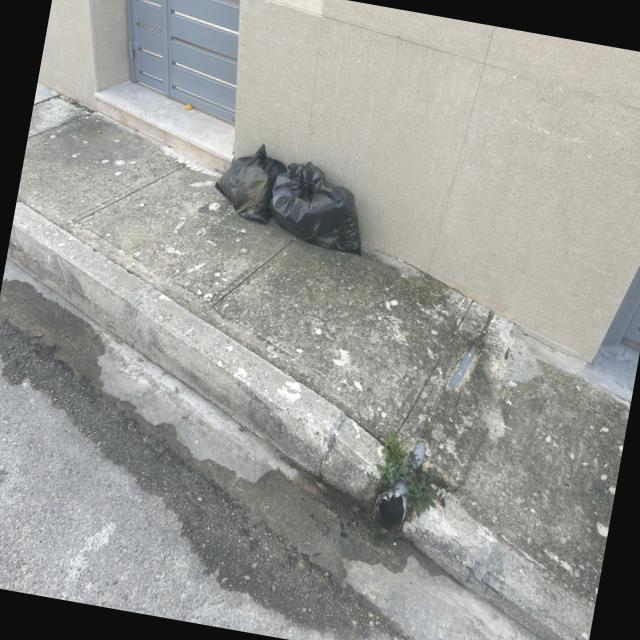black_bag: (264, 153, 379, 261), (207, 135, 291, 226)
